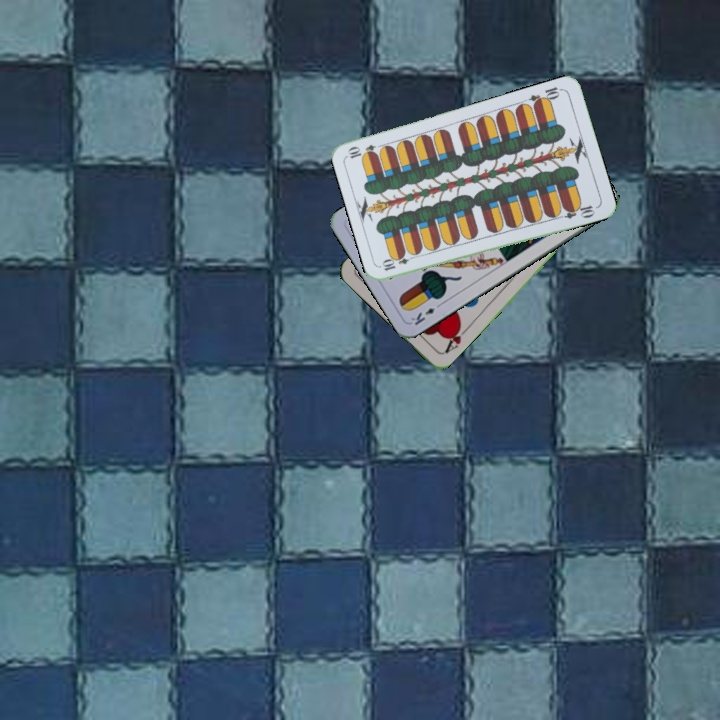E10: (525, 83, 565, 109), (378, 250, 418, 273)
EK: (407, 299, 444, 328)
HA: (440, 320, 471, 356)
